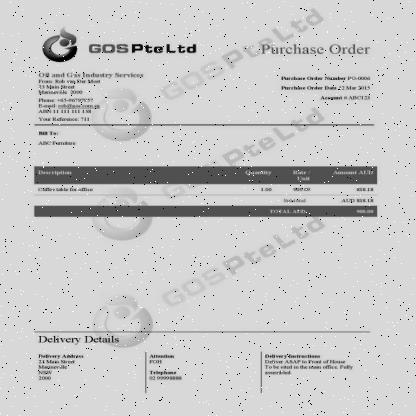Paragraph: (36, 70, 146, 122), (278, 74, 373, 102), (264, 354, 354, 376), (268, 198, 375, 216), (258, 43, 372, 55), (37, 353, 85, 381), (38, 334, 119, 346), (37, 130, 77, 146), (147, 369, 182, 381), (147, 354, 175, 364)
Table: (35, 166, 376, 194)
